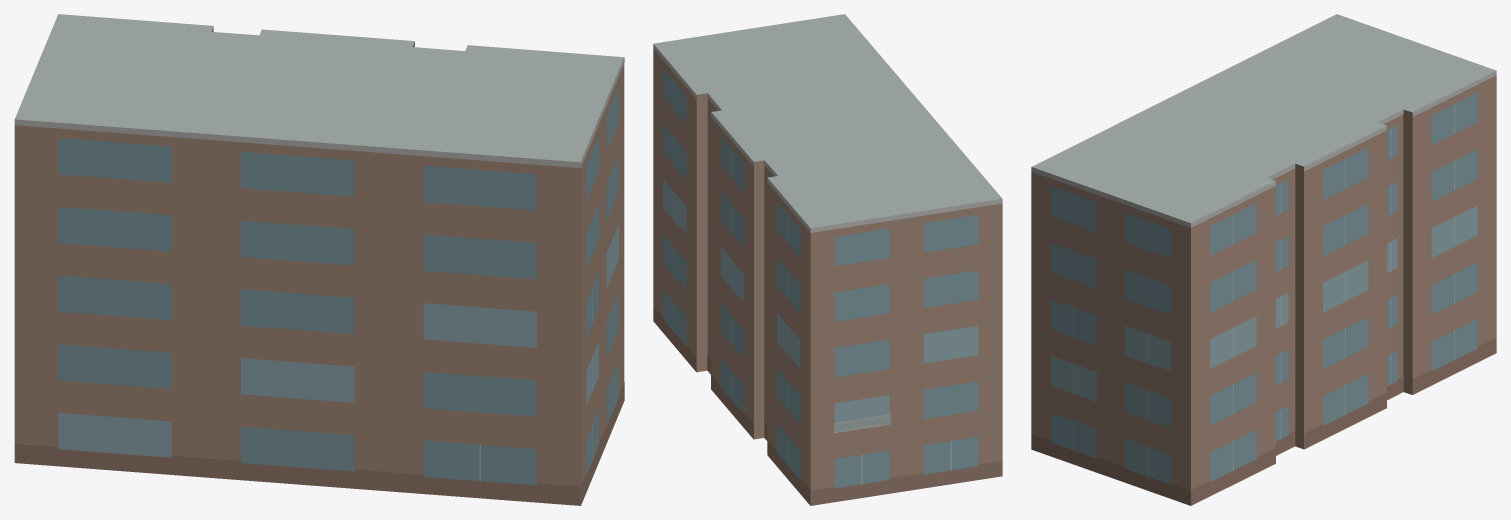
File: survey-upis-32675098.glb
The picture shows the model from 3 angles, left to right: view 1: azimuth 30°, elevation 25°; view 2: azimuth 150°, elevation 25°; view 3: azimuth 270°, elevation 25°; orthographic projection. The views are drawn at different scales.
Visible parts, largest first — view 1: survey-upis-32675098.tmp; view 2: survey-upis-32675098.tmp; view 3: survey-upis-32675098.tmp.
Part boxes in pixels (<box>): survey-upis-32675098.tmp: <box>14,14,624,505</box>; survey-upis-32675098.tmp: <box>653,14,1002,505</box>; survey-upis-32675098.tmp: <box>1031,14,1496,505</box>.
Size of the model in its own units: 23.02 by 14.5 by 21.63.
